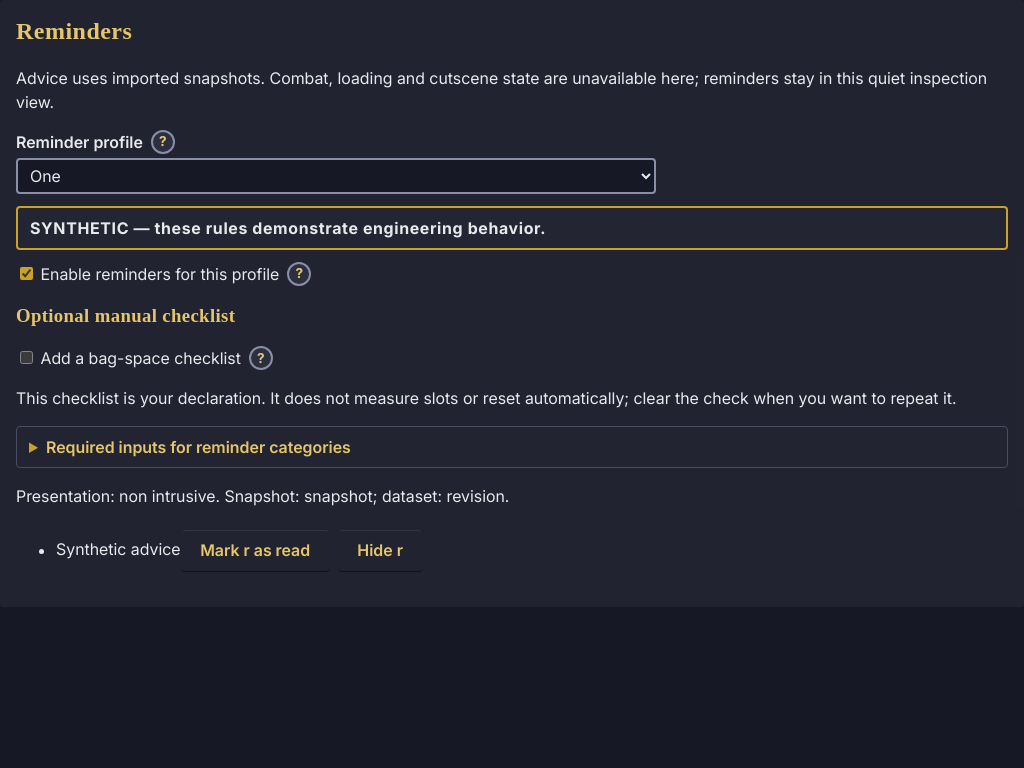
inspection stays nonintrusive and presentation needs explicit acknowledgment
The image size is (1024, 768).
Expected: the list item "Synthetic advice" is shown, top-left (56, 540), bottom-right (181, 560)
Expected: the text "Presentation:" shows "non intrusive", top-left (119, 486), bottom-right (216, 506)
Click the button "Mark r as read" at (255, 550), box top-left (181, 528), bottom-right (330, 571)
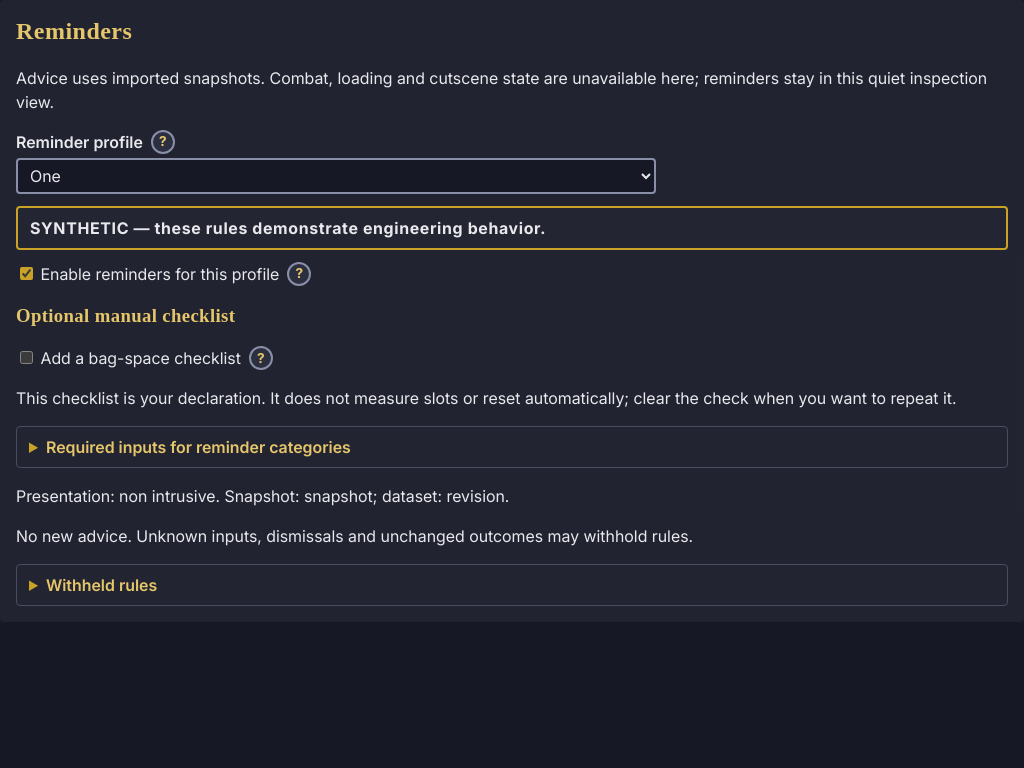
Expected: the text "No new advice" is shown, top-left (16, 526), bottom-right (693, 546)
